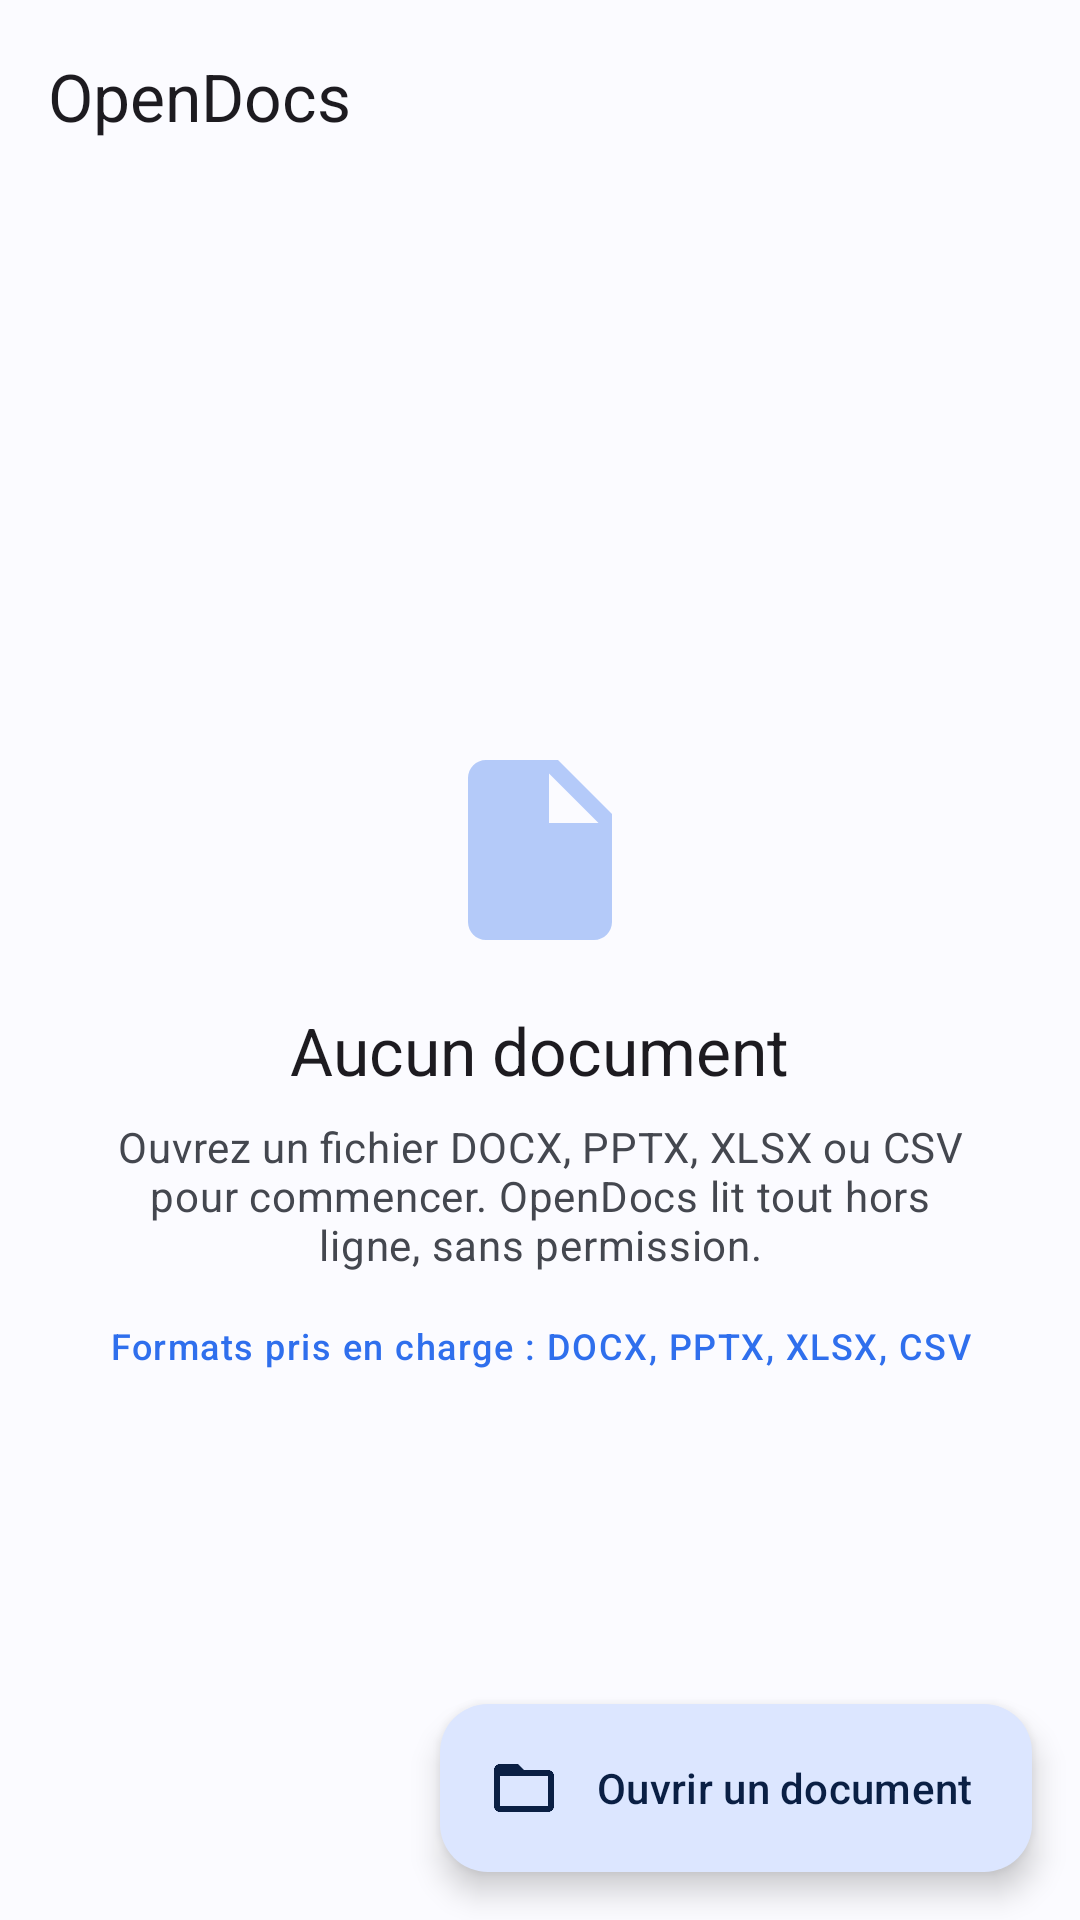

Locate icon controls on the screen. Image size 1080 x 1920, boxes as (x1, y1, x2, y2).
empty: (468, 760, 612, 940)
